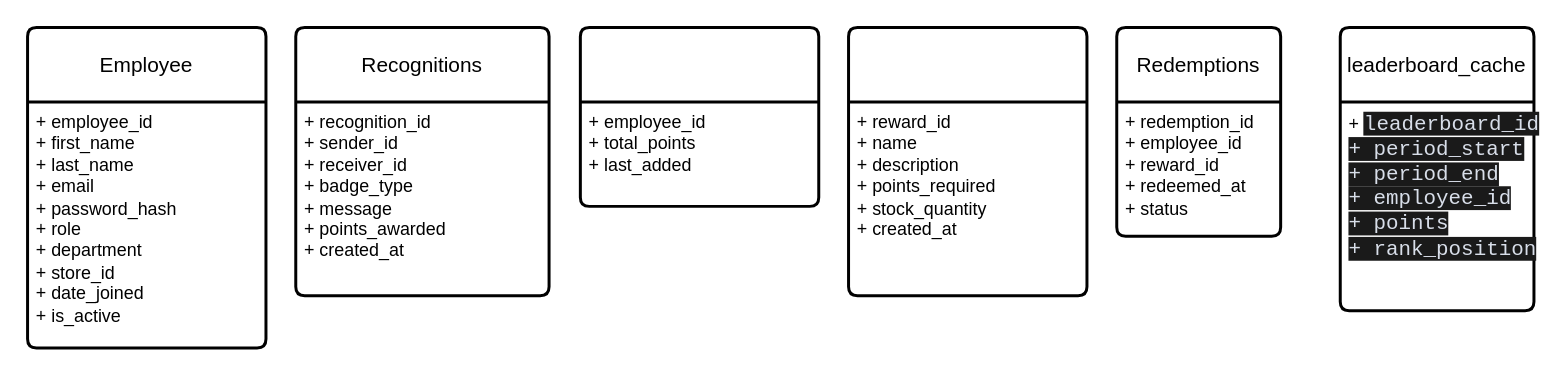
This 1565x374 diagram has some shape labels left out. Here are the shapes that lost their labels. From the top down, the box of each, then its label:
(578, 25, 820, 207): points_balance
(846, 25, 1088, 297): Rewards
